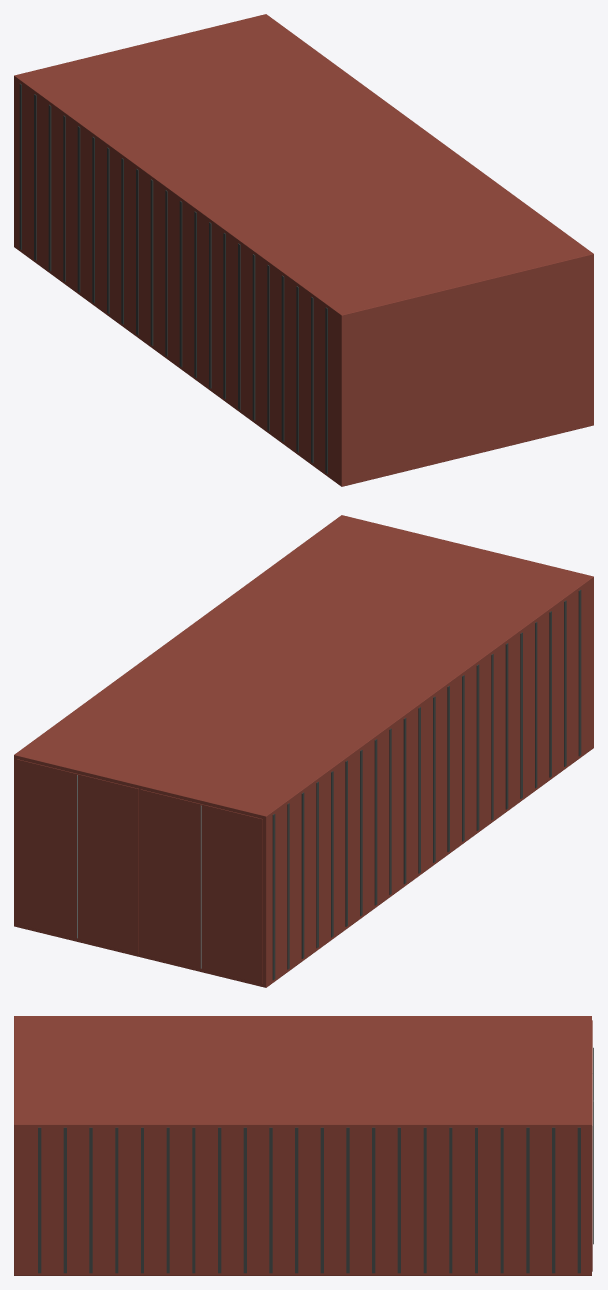
Rendered from env_container.gltf.
The picture shows the model from 3 angles, top to bottom: view 1: azimuth 30°, elevation 25°; view 2: azimuth 150°, elevation 25°; view 3: azimuth 270°, elevation 25°; orthographic projection. The views are drawn at different scales.
Visible parts, largest first — view 1: env_container__paint_red, env_container__dark_steel; view 2: env_container__paint_red, env_container__dark_steel; view 3: env_container__paint_red, env_container__dark_steel.
Boxes of the visible parts, bbox=[...] form: env_container__paint_red: bbox=[14, 14, 593, 486]; env_container__dark_steel: bbox=[19, 83, 327, 473]; env_container__paint_red: bbox=[14, 515, 593, 987]; env_container__dark_steel: bbox=[272, 590, 581, 980]; env_container__paint_red: bbox=[14, 1016, 592, 1275]; env_container__dark_steel: bbox=[38, 1127, 580, 1273].
Size of the model in its own units: 40.24 by 26 by 90.29.
